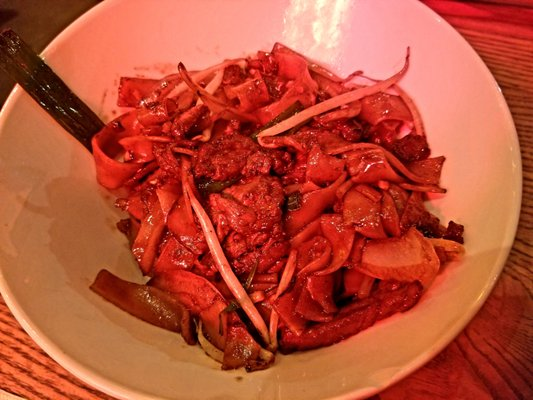curry: (8, 1, 525, 400)
